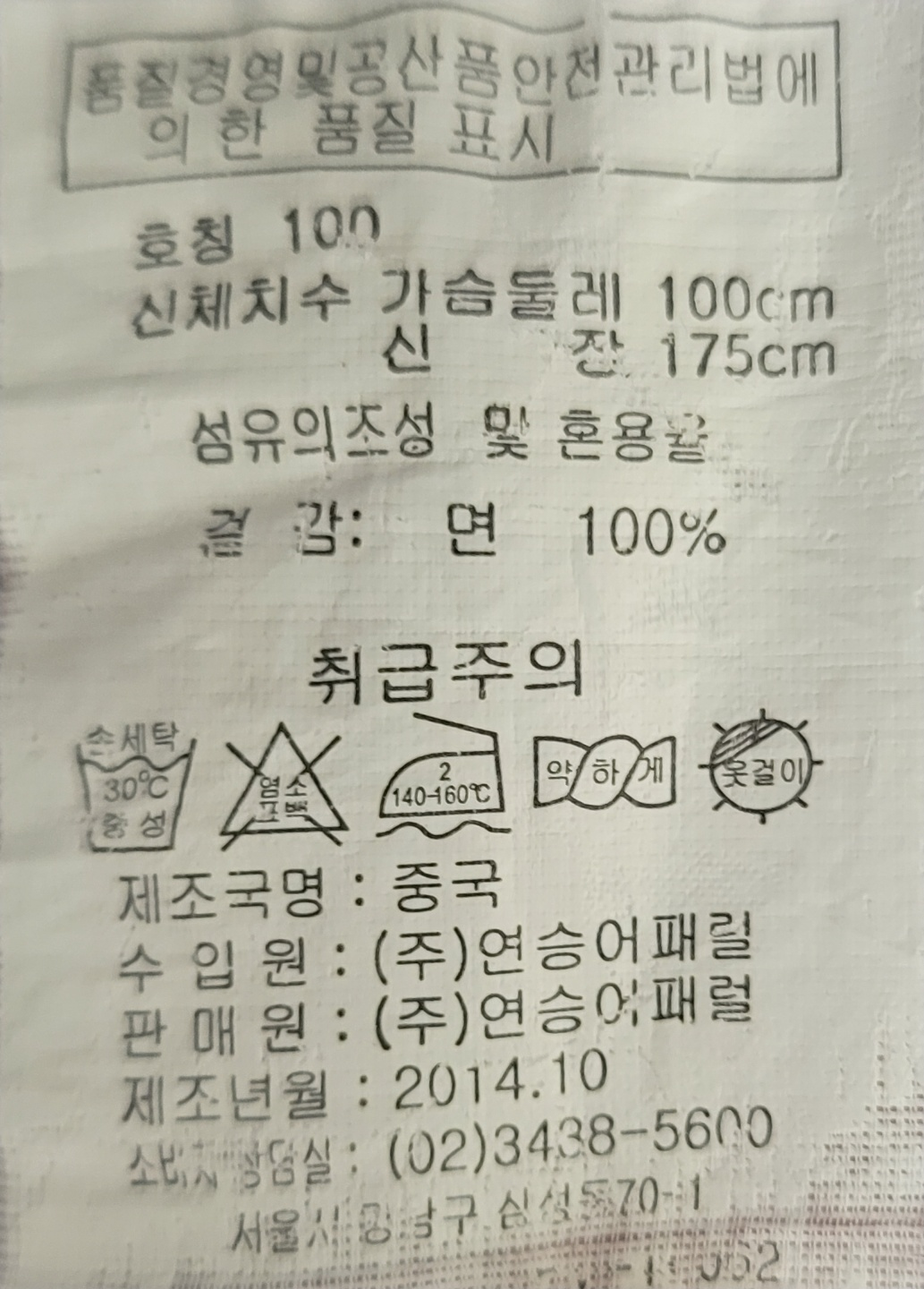KR_gentle_wring: (525, 722, 688, 822)
KR_hand_wash_30_neutral: (64, 715, 200, 859)
KR_hang_dry_in_shade: (701, 709, 823, 827)
KR_iron_medium_temp_with_cloth: (367, 709, 518, 845)
KR_no_chlorine_bleach: (205, 715, 360, 855)
